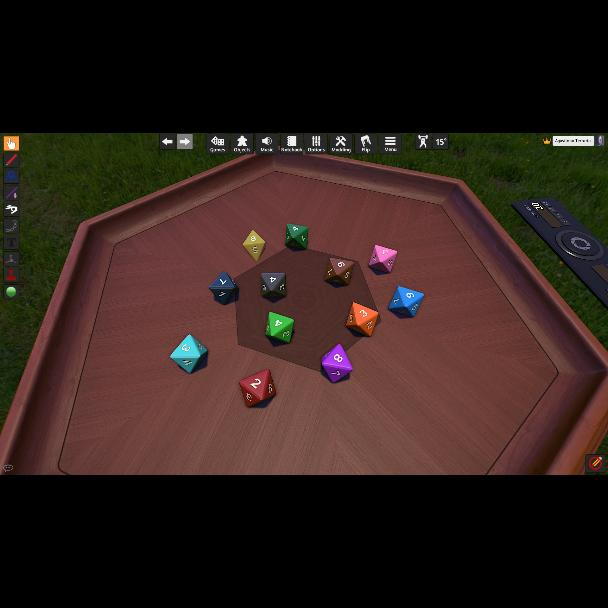d8: (170, 334, 208, 372), (239, 369, 275, 407), (322, 344, 351, 382), (388, 286, 420, 318), (346, 302, 376, 336), (209, 272, 237, 304), (266, 313, 294, 344), (325, 258, 352, 286), (368, 246, 394, 274), (243, 230, 265, 262), (260, 272, 286, 298), (286, 224, 306, 250)
